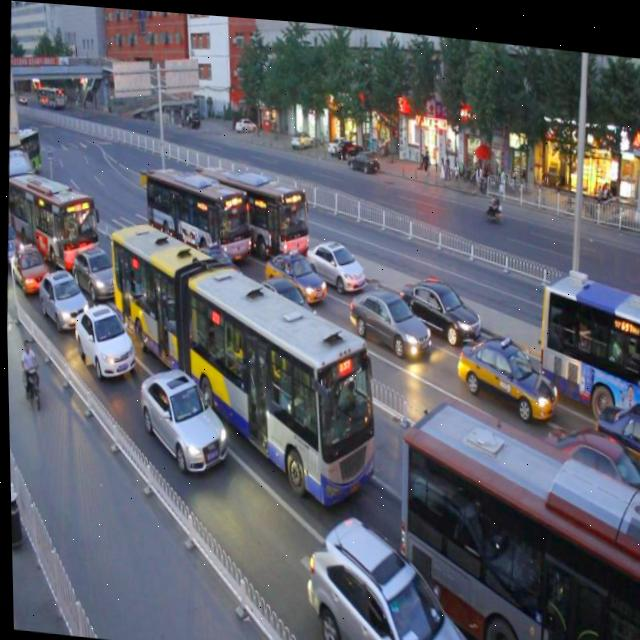car: (301, 508, 473, 640), (531, 407, 640, 535), (133, 356, 229, 474), (454, 320, 558, 420), (345, 273, 429, 356), (399, 263, 482, 338), (72, 293, 136, 380), (260, 237, 325, 304), (302, 225, 364, 291), (586, 388, 640, 458), (187, 237, 247, 297), (253, 266, 315, 324), (39, 265, 88, 335), (71, 241, 119, 300), (5, 234, 49, 296)
van: (100, 211, 383, 504), (390, 386, 640, 640), (533, 257, 640, 405), (141, 155, 252, 270), (197, 153, 311, 260), (5, 164, 99, 264)
